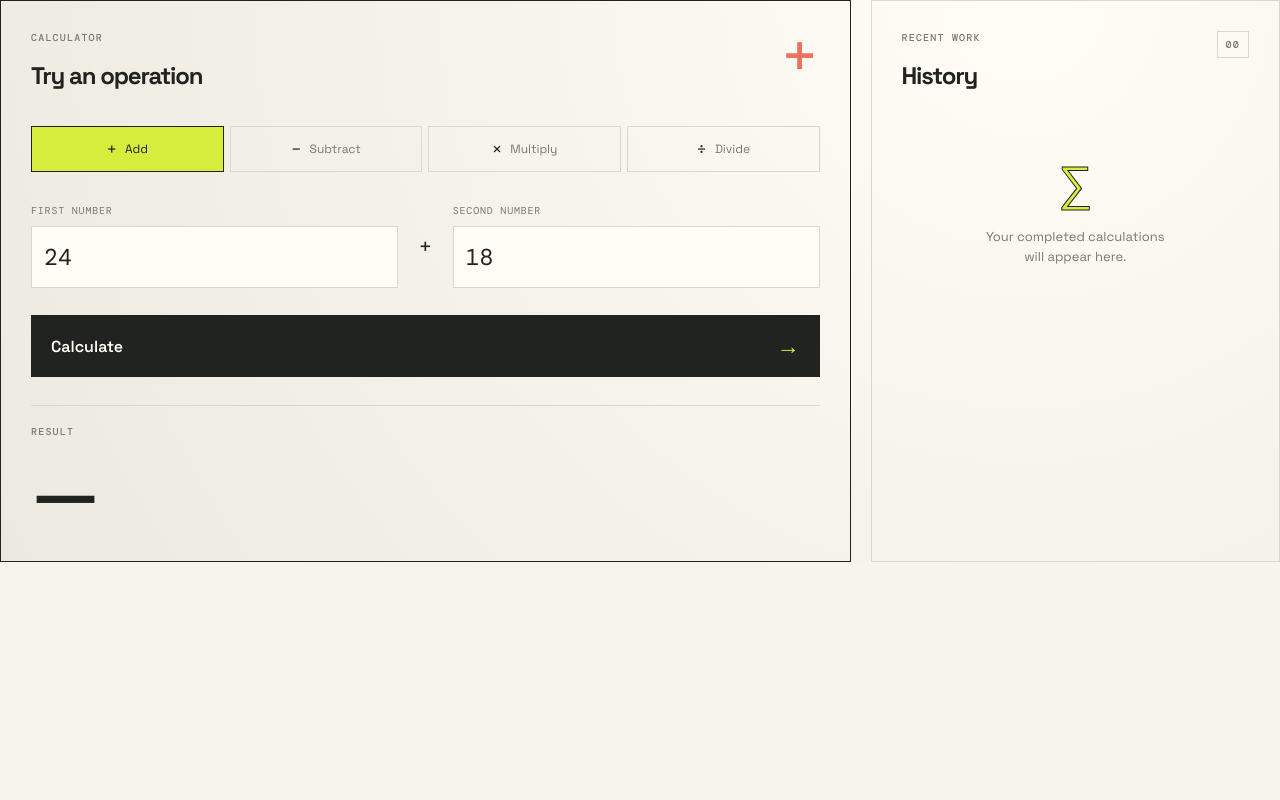
Calculator › calculates division successfully
Click the tab "÷ Divide" at (723, 149), box [627,126,820,172]
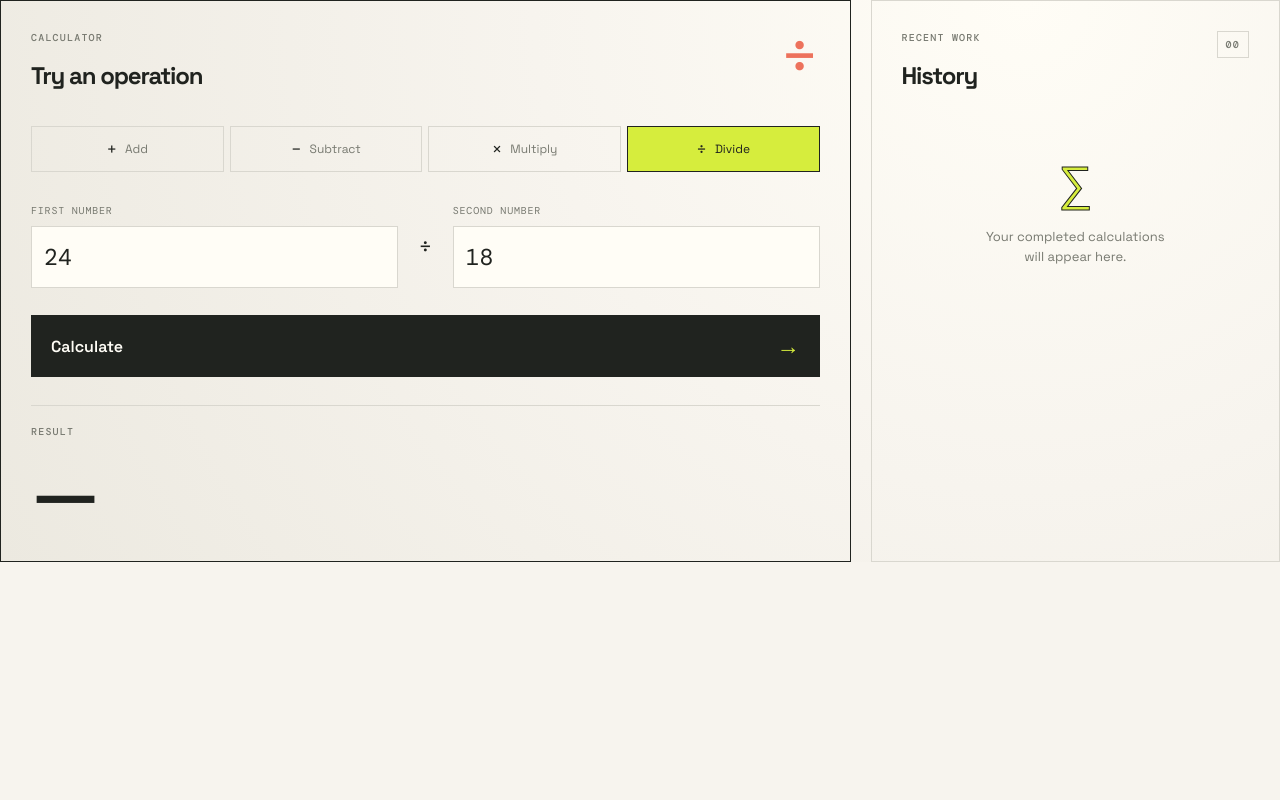
Replace the text in the field labelled "First number" with "12" at (214, 257), box [31,226,398,288]
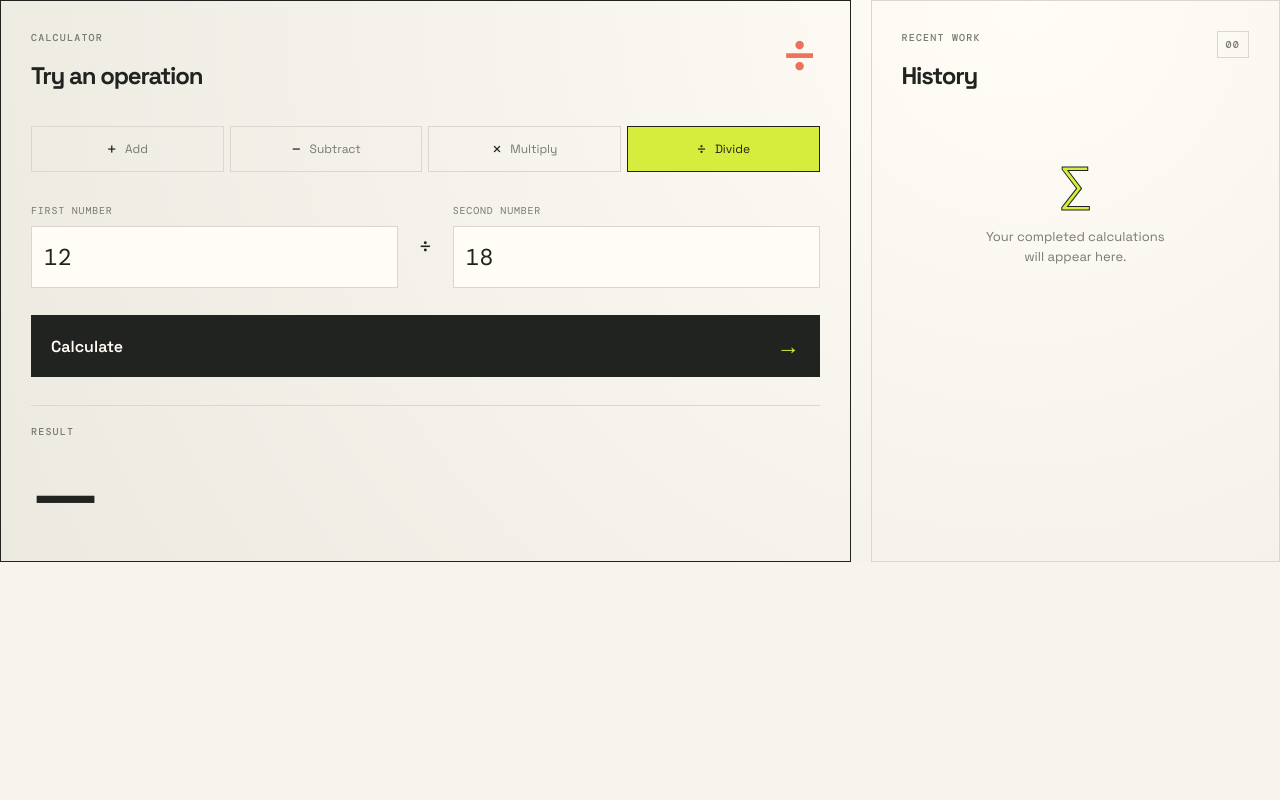
Replace the text in the field labelled "Second number" with "3" at (636, 257), box [453,226,820,288]
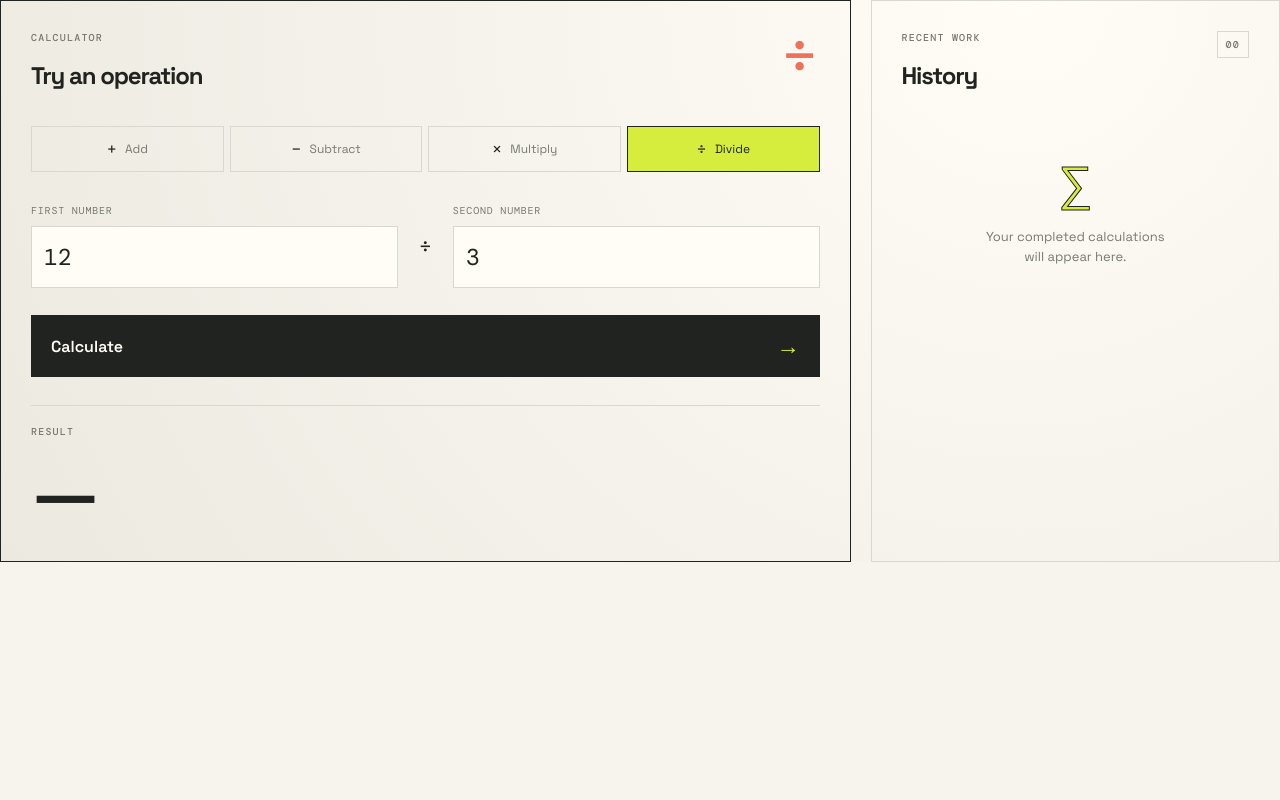
Click the button "Calculate →" at (87, 346), box [31,315,820,377]
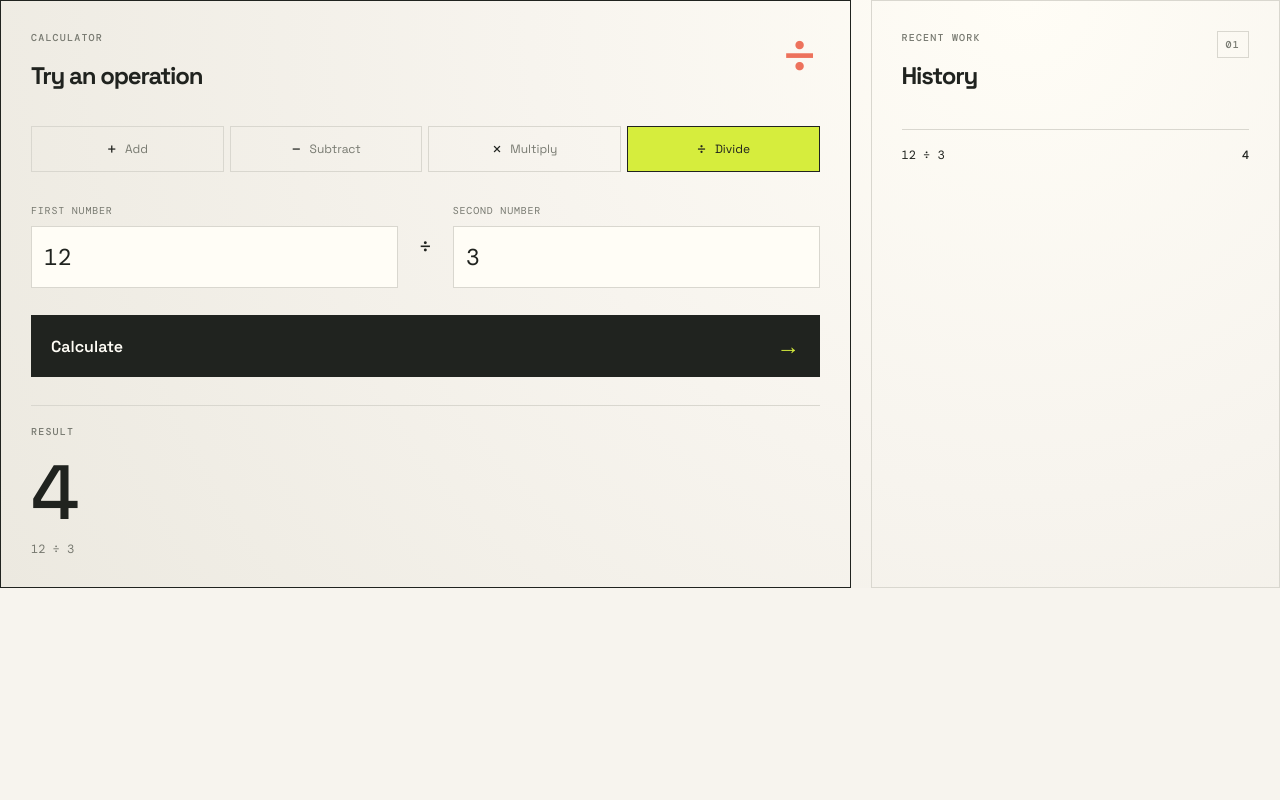
Expected: the text "4" below "Result" is shown, [31,443,73,541]
